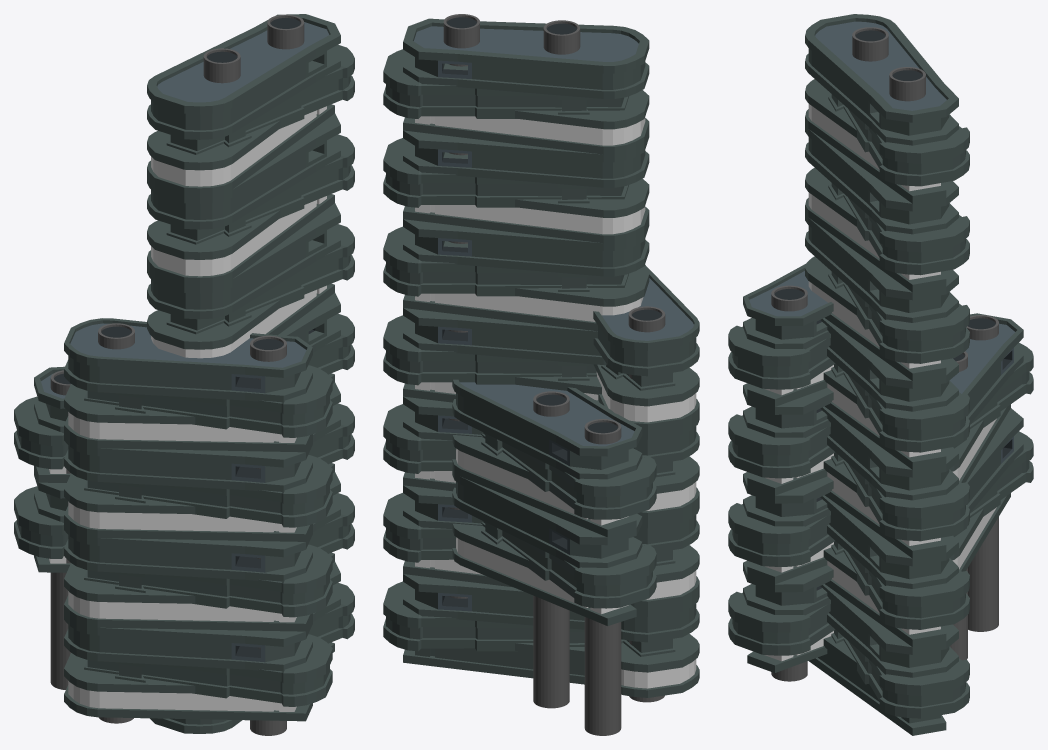
File: building_73.fbx
3 views of the same model, side by side, from view 1: azimuth 30°, elevation 25°; view 2: azimuth 150°, elevation 25°; view 3: azimuth 270°, elevation 25° (orthographic).
Visible parts, largest first — view 1: building_73; view 2: building_73; view 3: building_73.
Part boxes in pixels (x1=…): building_73: x1=14, y1=14, x2=354, y2=735; building_73: x1=383, y1=14, x2=699, y2=735; building_73: x1=728, y1=14, x2=1033, y2=735.
Bounding box in the file's own units: 1480 × 3074 × 1338.
